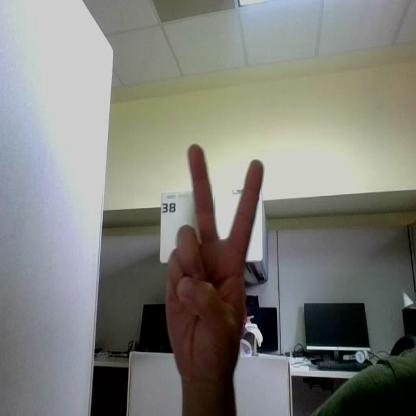V: (166, 145, 264, 380)
